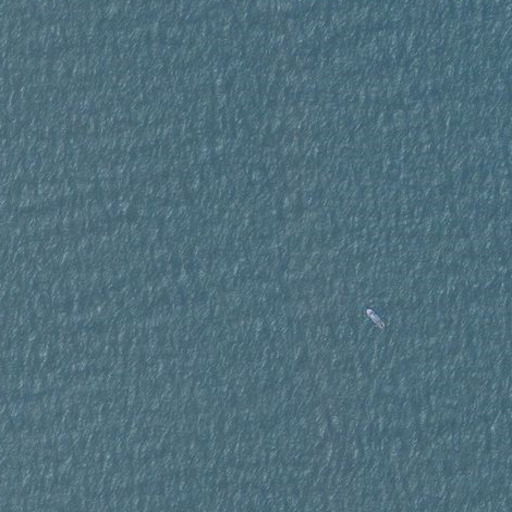ship: (362, 304, 387, 332)
